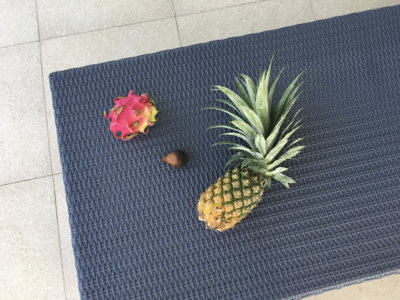dragon fruit: (106, 92, 158, 143)
pineapple: (196, 52, 308, 233)
snake fruit: (161, 151, 190, 168)
